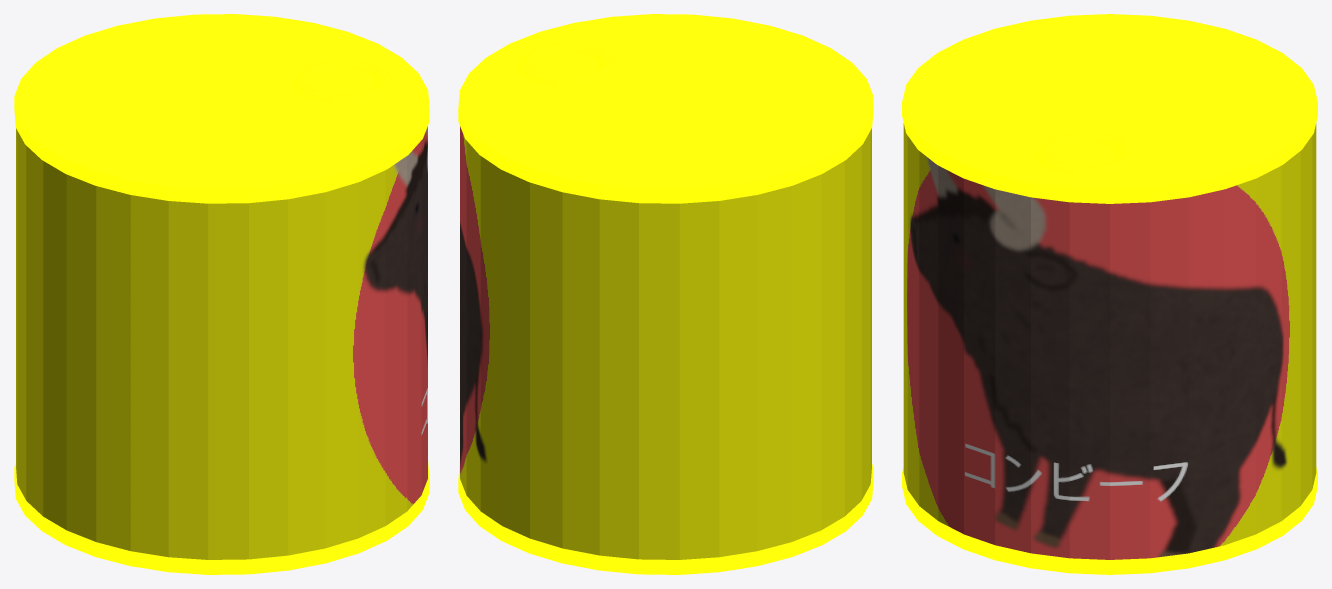
The model's file is kan_gold.fbx.
3 views of the same model, side by side, from view 1: azimuth 30°, elevation 25°; view 2: azimuth 150°, elevation 25°; view 3: azimuth 270°, elevation 25° (orthographic).
Parts seen in each view (by area): view 1: Cylinder, Cylinder.001, Cylinder.002, Torus; view 2: Cylinder, Cylinder.001, Cylinder.002, Torus; view 3: Cylinder, Cylinder.001, Cylinder.002, Torus.
Part boxes in pixels (<box>): Cylinder: <box>16,126,427,559</box>; Cylinder.001: <box>14,14,429,203</box>; Cylinder.002: <box>14,461,429,574</box>; Torus: <box>294,60,393,104</box>; Cylinder: <box>460,126,871,559</box>; Cylinder.001: <box>458,14,873,203</box>; Cylinder.002: <box>458,461,873,574</box>; Torus: <box>517,43,617,87</box>; Cylinder: <box>903,123,1316,559</box>; Cylinder.001: <box>902,14,1317,203</box>; Cylinder.002: <box>902,467,1317,574</box>; Torus: <box>1036,132,1136,176</box>.
Size of the model in its own units: 201 by 209 by 201.
2 materials, 1 textured.
